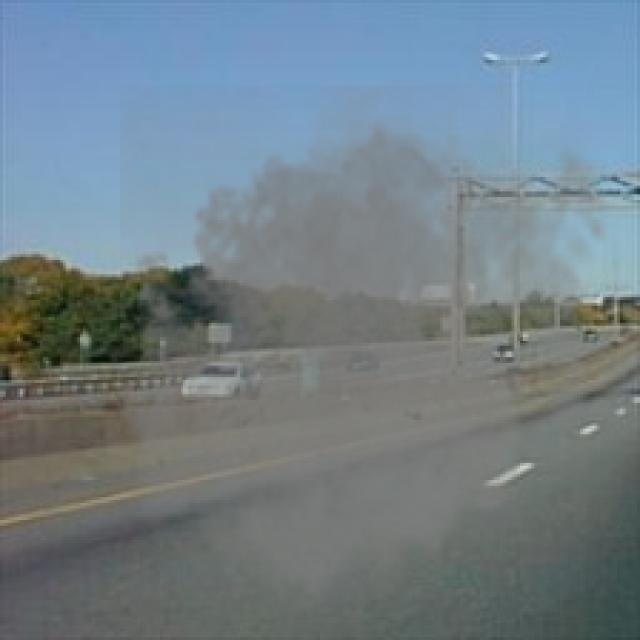smoke: (108, 86, 623, 634)
